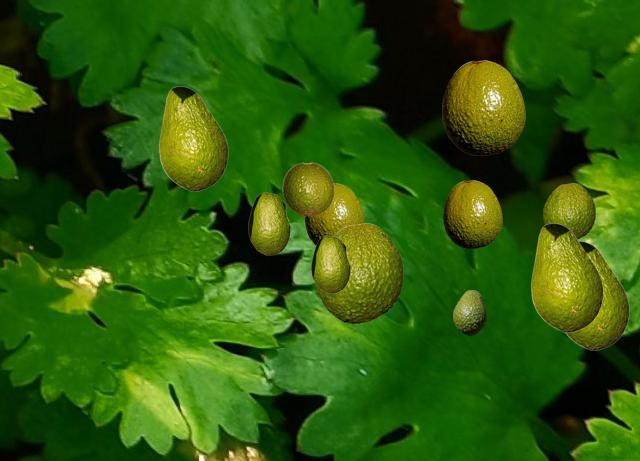avocado: (315, 223, 402, 322), (442, 60, 524, 154), (531, 223, 602, 331), (159, 86, 227, 190), (564, 241, 628, 349), (443, 180, 501, 247), (305, 183, 363, 244), (543, 183, 594, 239), (282, 162, 334, 215), (248, 192, 289, 254), (311, 235, 349, 292), (453, 290, 485, 334)
